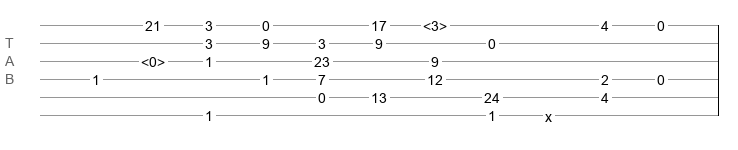0: (262, 18, 270, 28), (318, 90, 326, 100), (488, 36, 496, 46), (657, 18, 665, 28), (657, 72, 665, 82)
1: (92, 72, 100, 82), (205, 108, 213, 118), (205, 54, 213, 64), (262, 72, 270, 82), (488, 108, 496, 118)
12: (427, 72, 443, 82)
13: (371, 90, 387, 100)
17: (371, 18, 387, 28)
2: (601, 72, 609, 82)
21: (145, 18, 161, 28)
23: (314, 54, 330, 64)
24: (484, 90, 500, 100)
3: (205, 18, 213, 28), (205, 36, 213, 46), (318, 36, 326, 46)
4: (601, 90, 609, 100), (601, 18, 609, 28)
7: (318, 72, 326, 82)
9: (262, 36, 270, 46), (375, 36, 383, 46), (431, 54, 439, 64)
harmonic: (141, 54, 165, 64), (423, 18, 447, 28)
x: (545, 109, 552, 117)
